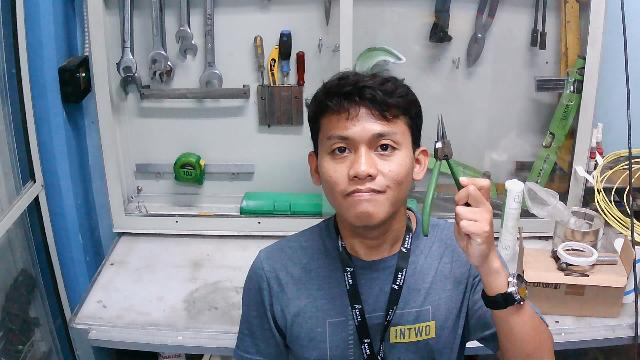tang_cucut_lancip_2: (418, 106, 494, 248)
